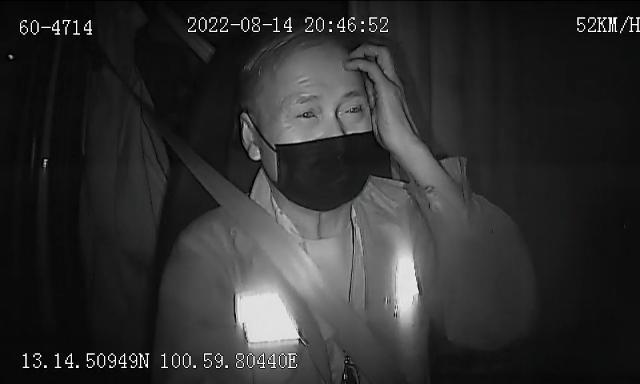SafeDriving: (289, 99, 324, 125), (336, 94, 370, 120)
Seatbelt: (152, 114, 400, 384)
